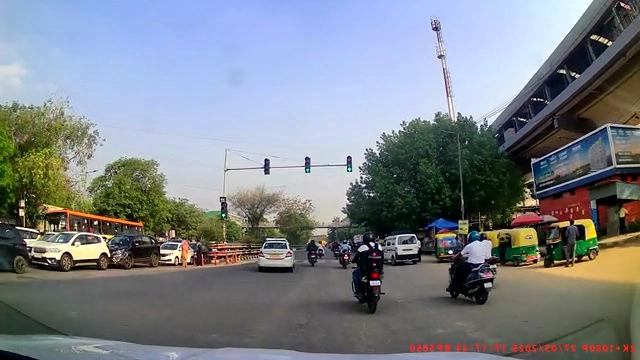motorcycle_with_helmet: (446, 228, 497, 305), (350, 229, 386, 314)
